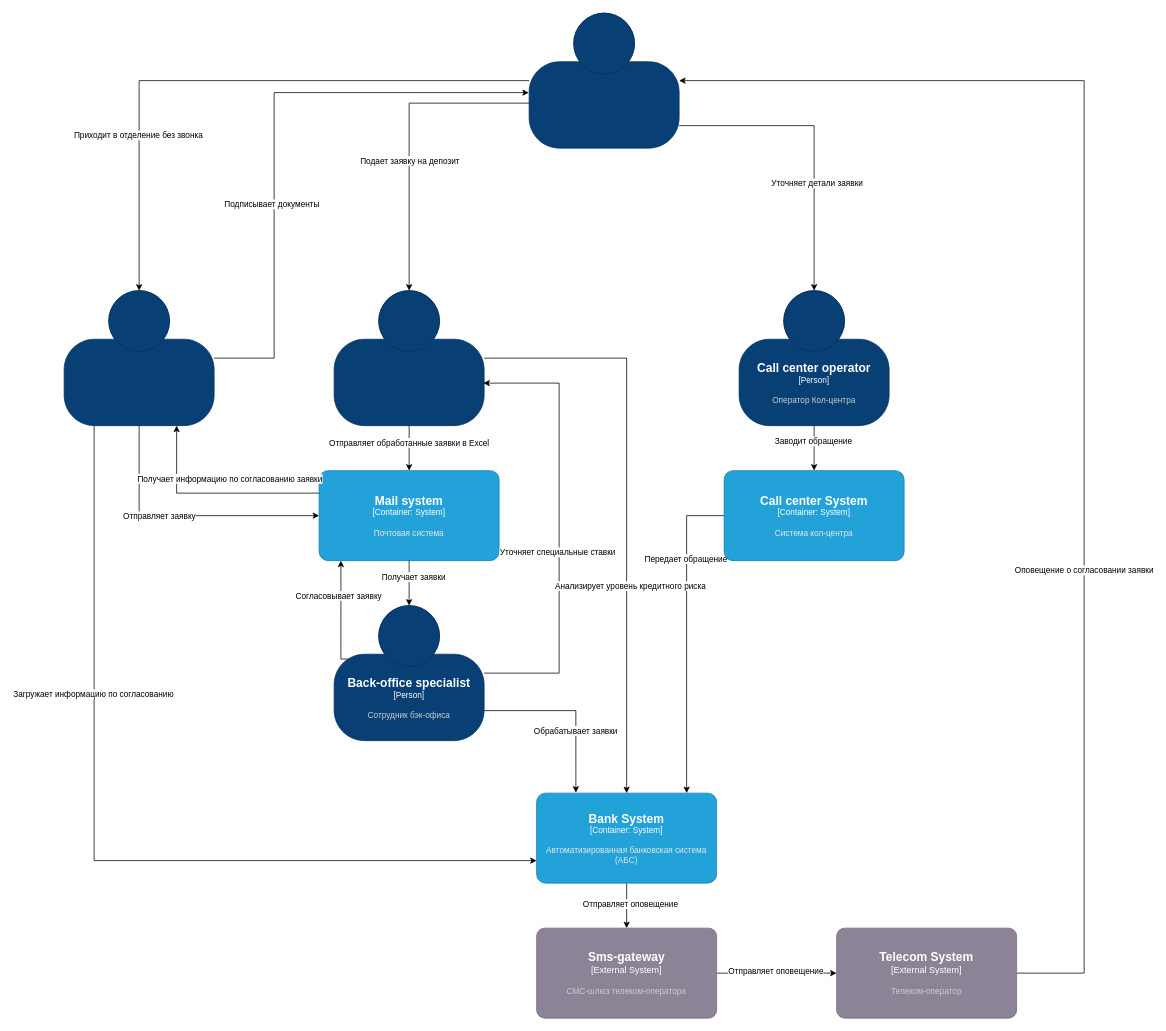
The diagram is 1166 pixels wide and 1031 high, and some of its shapes have lost their labels. Each missing label, with the centre of its shape:
"Bank manager [Person] Сотрудник отделения" belongs at [138,358].
"Credit specialist [Person] Сотрудник отдела кредитования" belongs at [408,358].
"Клиент [Person] Клиент" belongs at [603,80].
